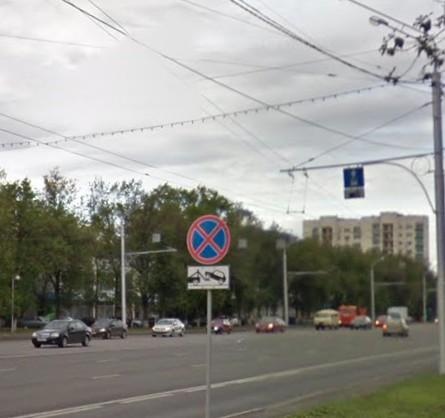No Parking: (186, 215, 233, 267)
